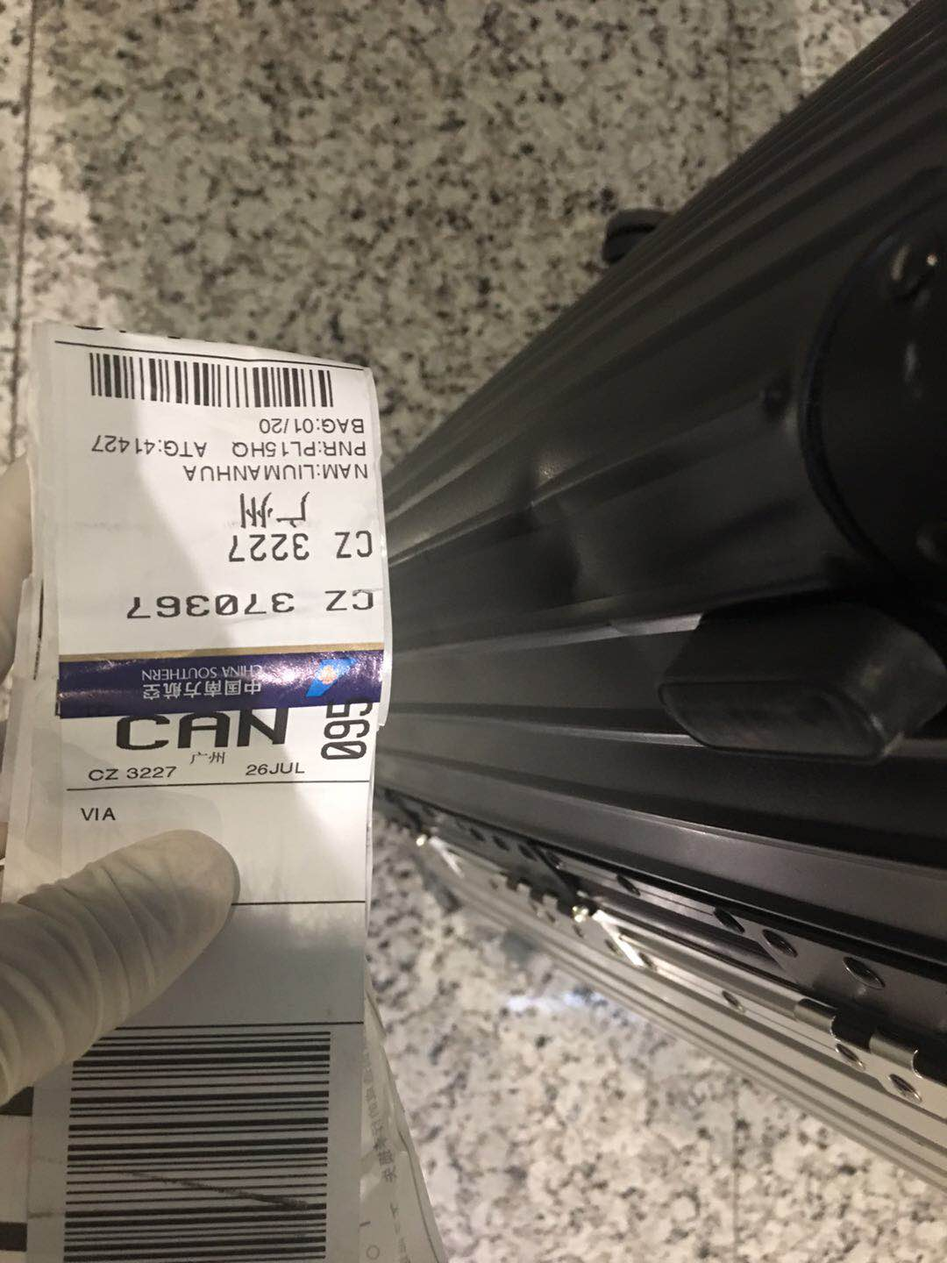rupture: (550, 526, 619, 613), (508, 444, 571, 539)
